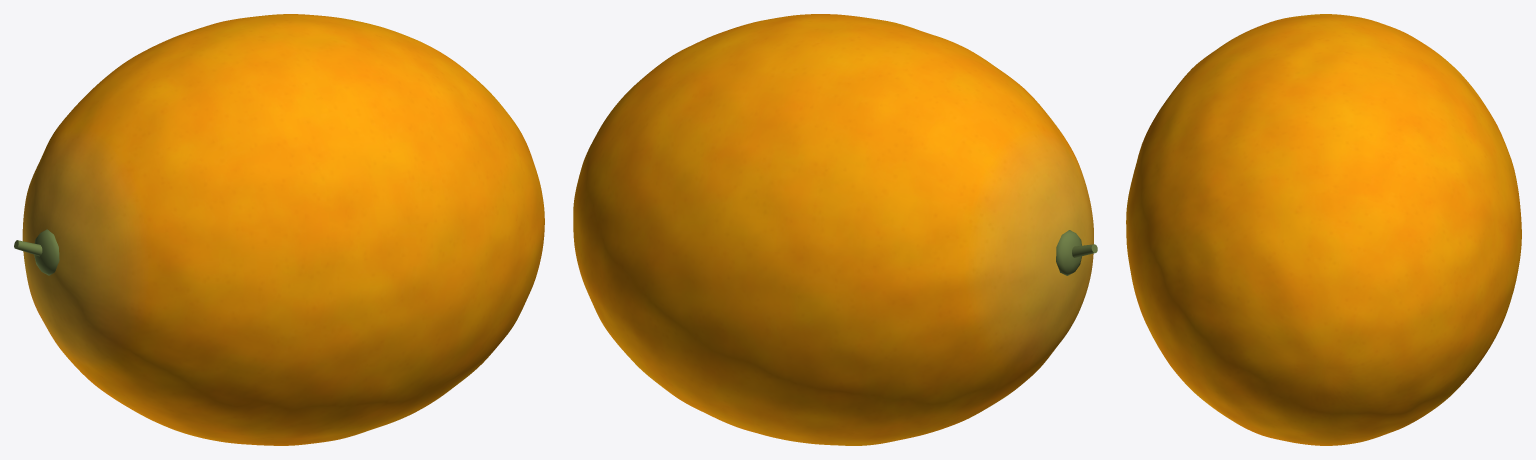
File: kumquat.glb
The picture shows the model from 3 angles, left to right: view 1: azimuth 30°, elevation 25°; view 2: azimuth 150°, elevation 25°; view 3: azimuth 270°, elevation 25°; orthographic projection. The views are drawn at different scales.
Parts seen in each view (by area): view 1: kumquat; view 2: kumquat; view 3: kumquat.
Boxes of the visible parts, bbox=[...] form: kumquat: bbox=[14, 14, 544, 445]; kumquat: bbox=[573, 14, 1097, 445]; kumquat: bbox=[1126, 14, 1521, 445].
Bounding box in the file's own units: 2 × 1.49 × 1.48.
2 materials, 1 textured.
